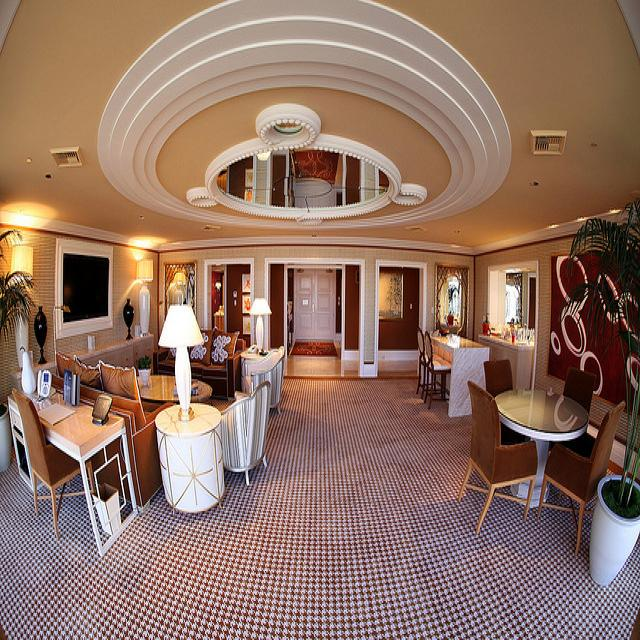chair: (539, 394, 626, 555), (456, 381, 539, 536), (12, 389, 80, 544), (220, 382, 271, 486), (242, 346, 285, 415), (423, 330, 451, 410), (564, 368, 593, 413), (483, 359, 514, 397), (416, 326, 429, 402)
dining table: (494, 388, 589, 508), (431, 331, 490, 417), (136, 374, 212, 404)
